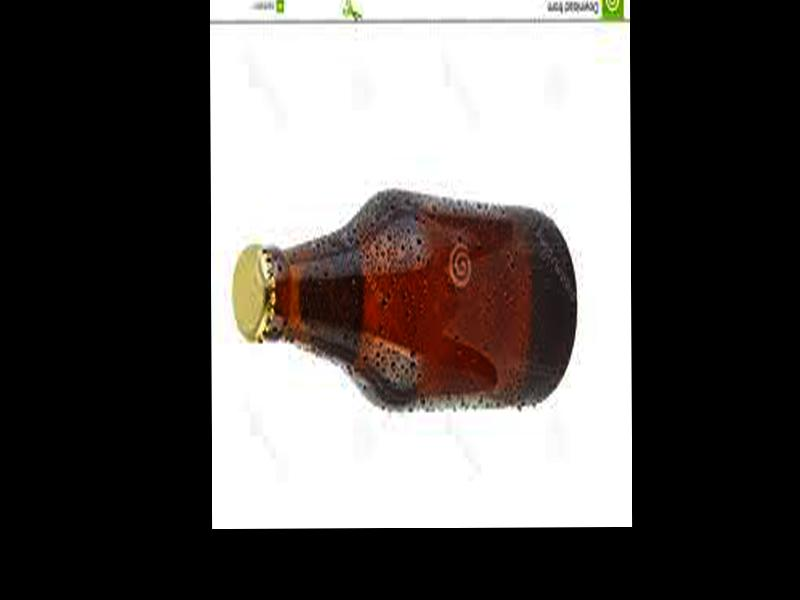Beer: (233, 190, 575, 412)
